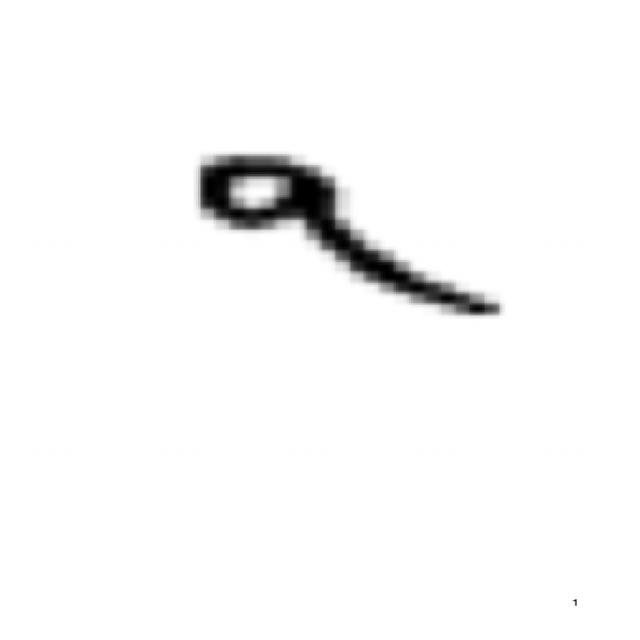9 -nine-: (180, 139, 517, 334)
